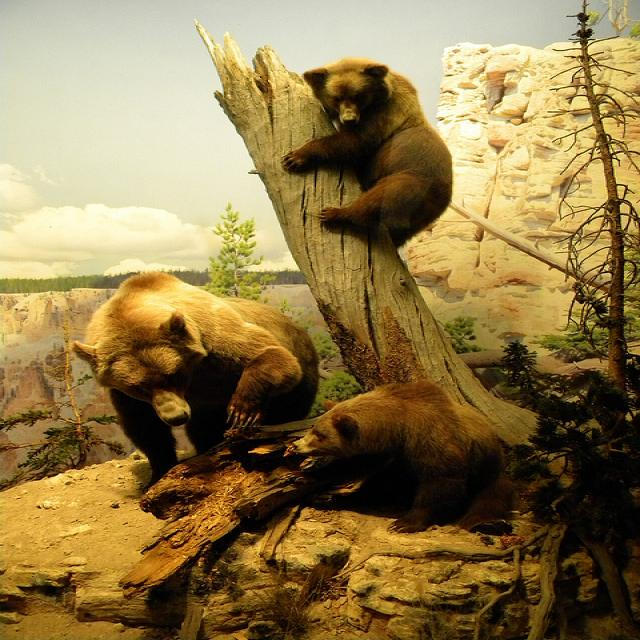Bear: (64, 262, 310, 430), (280, 380, 512, 535), (274, 56, 455, 248)
